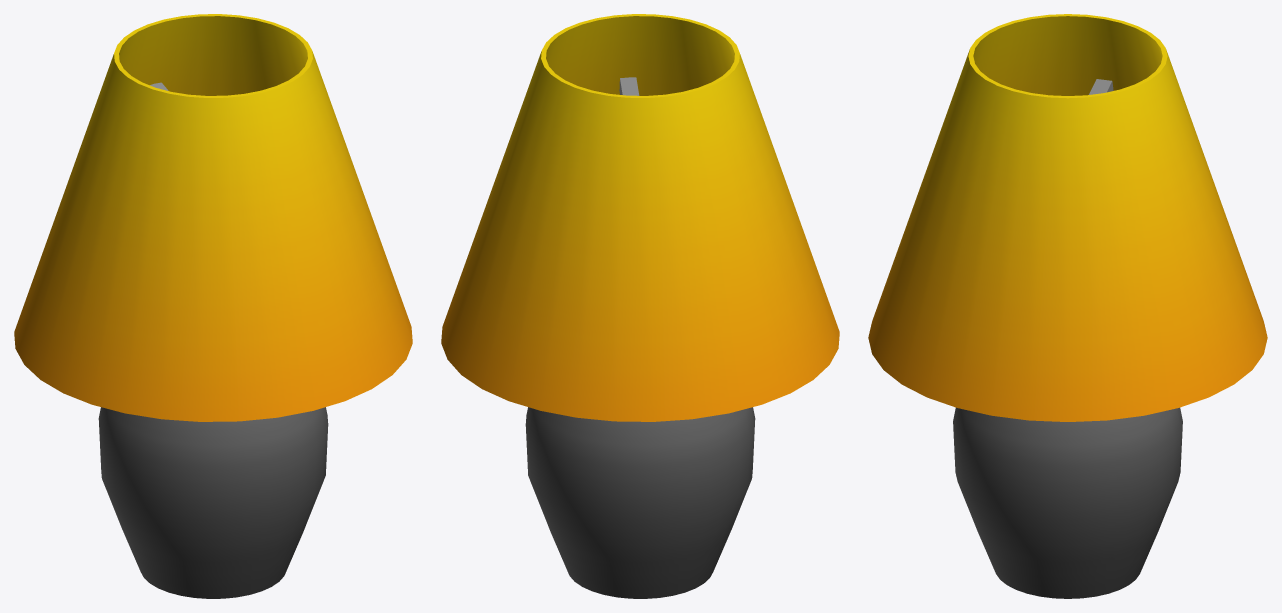
File: SM_LamparaDeMesa.fbx
3 views of the same model, side by side, from view 1: azimuth 30°, elevation 25°; view 2: azimuth 150°, elevation 25°; view 3: azimuth 270°, elevation 25° (orthographic).
Parts seen in each view (by area): view 1: LamparaDeMesa; view 2: LamparaDeMesa; view 3: LamparaDeMesa.
Boxes of the visible parts, left/top/right/bottom form: LamparaDeMesa: left=14, top=14, right=412, bottom=598; LamparaDeMesa: left=441, top=14, right=839, bottom=598; LamparaDeMesa: left=868, top=14, right=1267, bottom=598.
Size of the model in its own units: 39.19 by 55.41 by 39.19.
